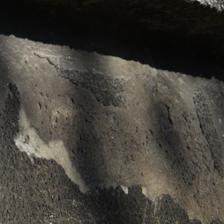Crack: (15, 86, 116, 194), (126, 186, 191, 221)
